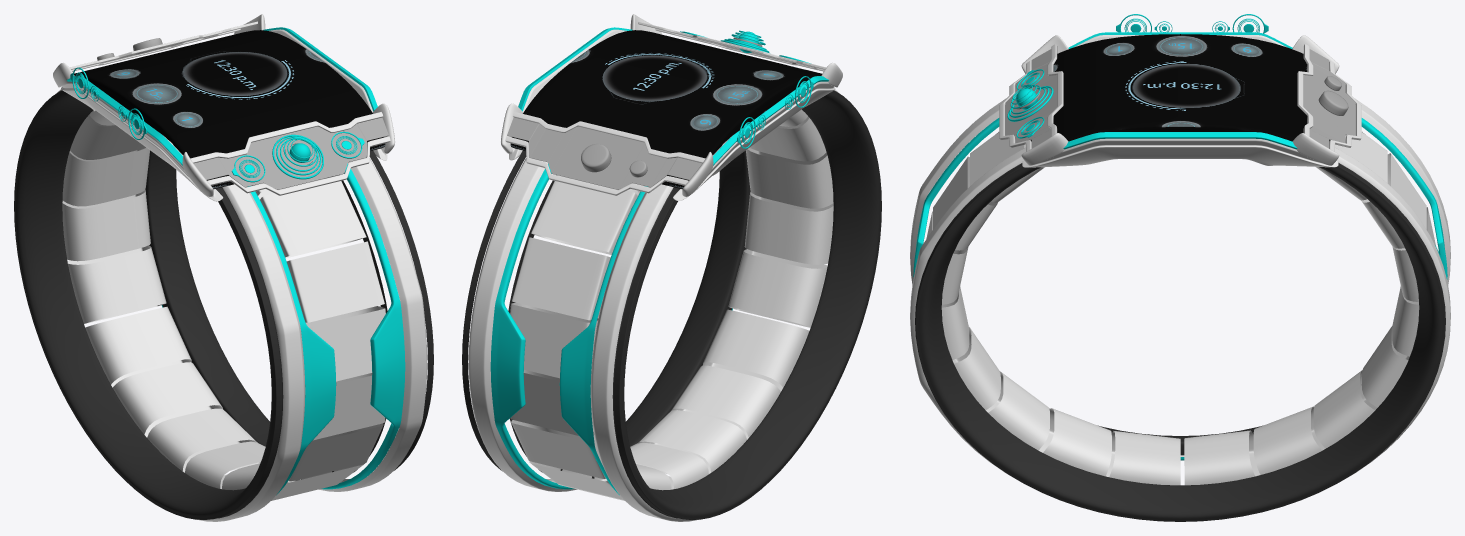
Rendered from Watch.fbx.
3 views of the same model, side by side, from view 1: azimuth 30°, elevation 25°; view 2: azimuth 150°, elevation 25°; view 3: azimuth 270°, elevation 25° (orthographic).
Visible parts, largest first — view 1: polySurface4, polySurface8, pCylinder3, polySurface7, polySurface13, polySurface10, polySurface11, polySurface2, pCylinder21, pCube1, pCube2, pCube4; view 2: polySurface4, polySurface8, pCylinder3, polySurface7, polySurface13, polySurface10, polySurface11, polySurface2, pCube1, pCube2, pCube4, pCylinder21 (+1 smaller); view 3: polySurface4, polySurface8, pCylinder3, polySurface7, polySurface2, polySurface13, polySurface11, pCube4, pCylinder21, pCube2, pCube1.
Part boxes in pixels (<box>): polySurface4: <box>62,110,385,500</box>; polySurface8: <box>14,90,433,519</box>; pCylinder3: <box>74,30,385,189</box>; polySurface7: <box>56,89,427,521</box>; polySurface13: <box>81,37,388,189</box>; polySurface10: <box>161,163,405,489</box>; polySurface11: <box>248,186,336,495</box>; polySurface2: <box>61,27,387,201</box>; pCylinder21: <box>70,67,364,182</box>; pCube1: <box>69,21,382,163</box>; pCube2: <box>71,28,390,195</box>; pCube4: <box>53,14,394,196</box>; polySurface4: <box>510,109,833,500</box>; polySurface8: <box>462,90,881,519</box>; pCylinder3: <box>510,30,821,189</box>; polySurface7: <box>468,89,839,521</box>; polySurface13: <box>507,37,814,189</box>; polySurface10: <box>490,163,732,489</box>; polySurface11: <box>559,186,647,495</box>; polySurface2: <box>509,27,835,200</box>; pCube1: <box>513,21,826,163</box>; pCube2: <box>505,28,824,195</box>; pCube4: <box>501,14,842,196</box>; pCylinder21: <box>680,30,813,148</box>; polySurface4: <box>926,132,1435,485</box>; polySurface8: <box>915,132,1445,521</box>; pCylinder3: <box>1030,34,1330,141</box>; polySurface7: <box>910,98,1450,473</box>; polySurface2: <box>1022,32,1338,167</box>; polySurface13: <box>1005,49,1355,148</box>; polySurface11: <box>913,118,1447,460</box>; pCube4: <box>1021,35,1339,165</box>; pCylinder21: <box>1007,14,1268,138</box>; pCube2: <box>999,60,1361,151</box>; pCube1: <box>1047,44,1313,136</box>.
Size of the model in its own units: 1.14 by 2.09 by 2.45.
